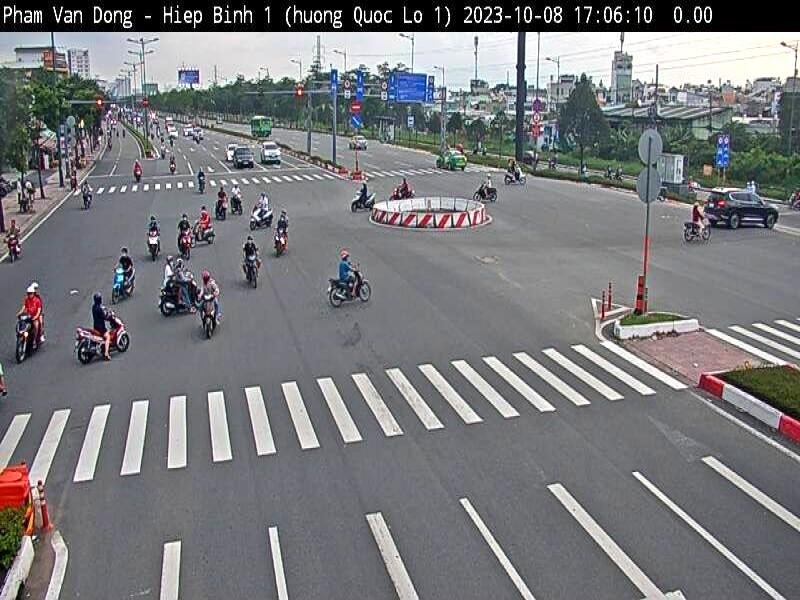bus: (246, 112, 278, 140)
car: (702, 192, 779, 231), (432, 144, 469, 178), (262, 142, 284, 167), (231, 145, 252, 171), (350, 130, 369, 155)
motorcycle: (74, 311, 123, 373), (149, 271, 201, 314), (103, 264, 148, 300), (74, 326, 113, 366), (327, 273, 371, 307), (195, 289, 221, 340), (12, 310, 35, 366), (242, 249, 267, 293), (684, 219, 712, 245), (352, 188, 379, 213), (174, 227, 194, 257), (141, 225, 161, 253), (3, 232, 20, 264), (474, 183, 496, 201)
